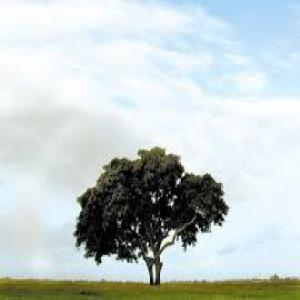Tree: (69, 143, 230, 287)
